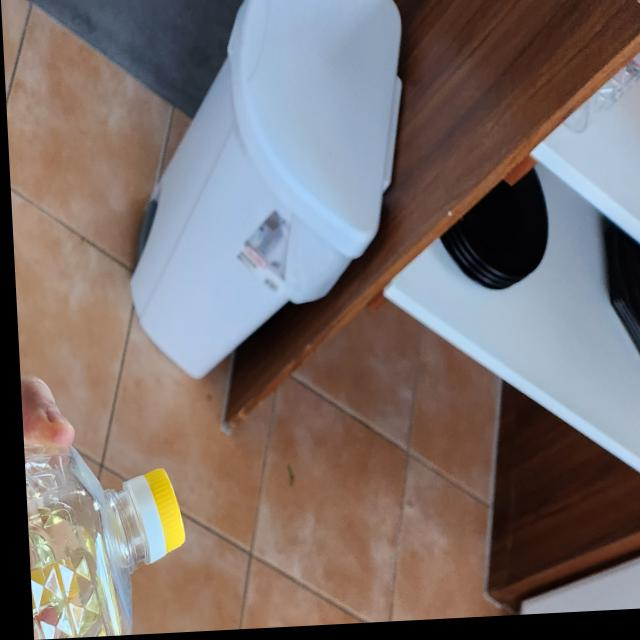canola oil: (18, 444, 185, 640)
